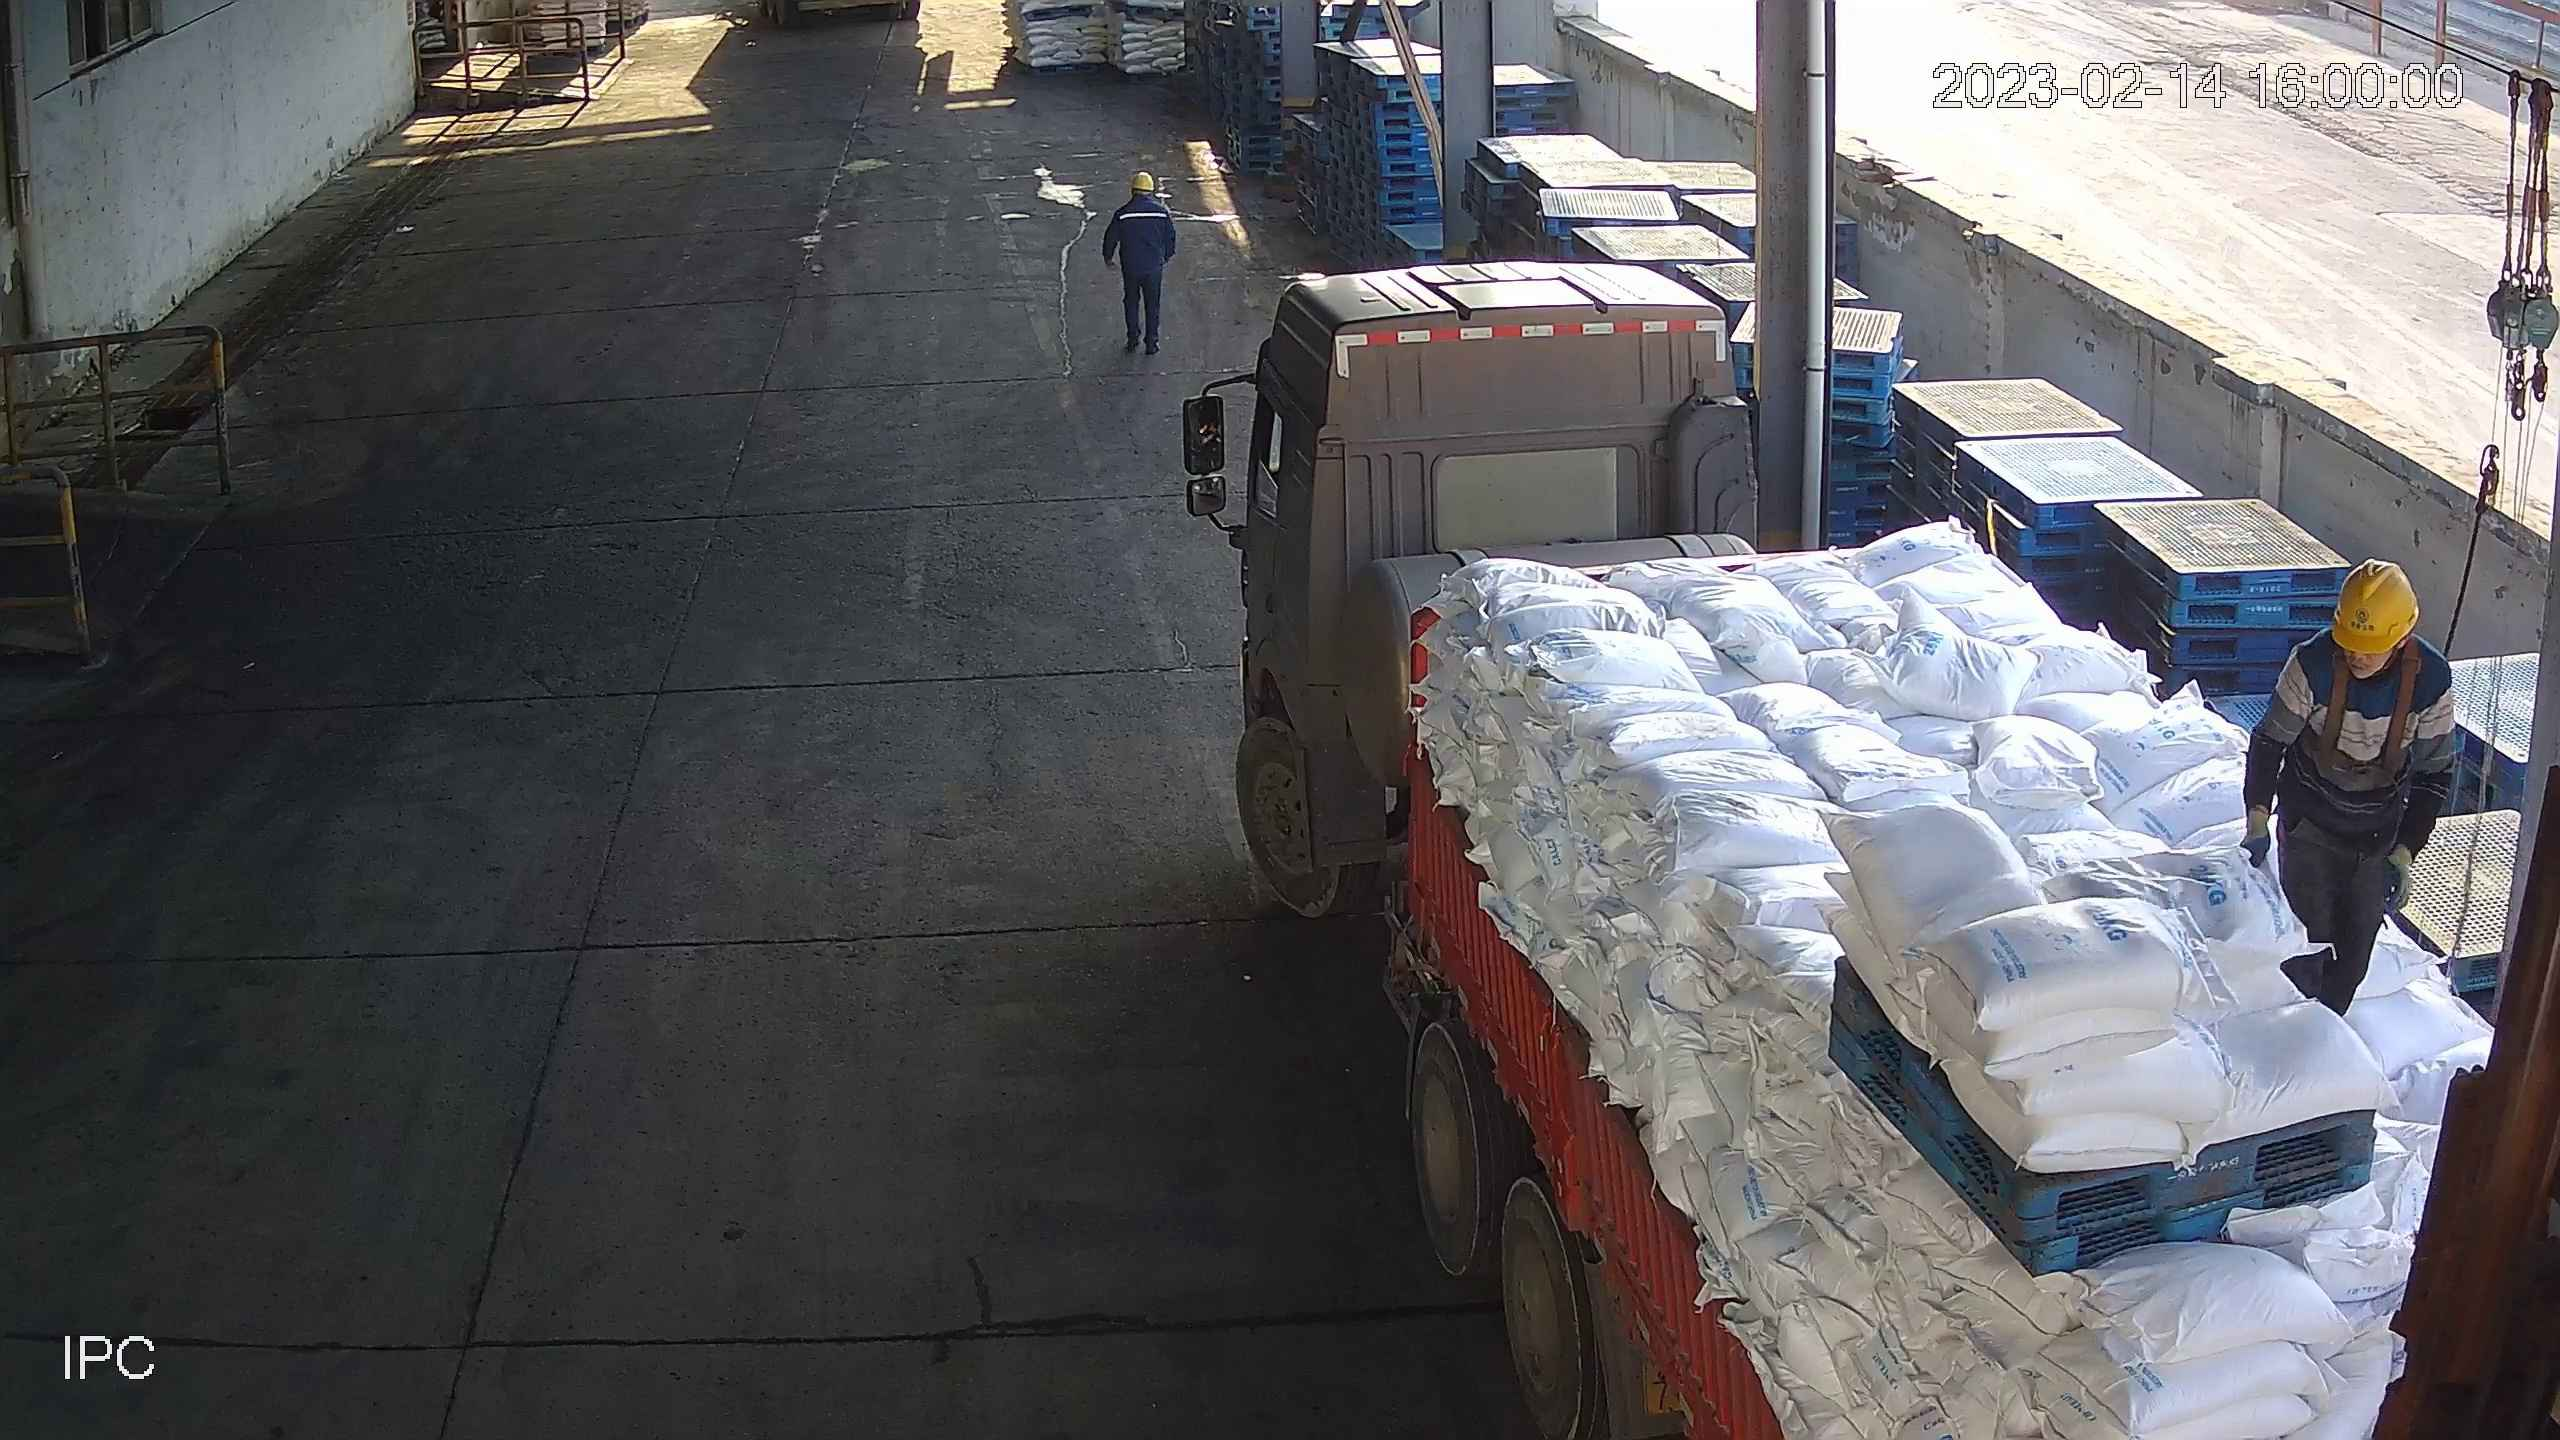belt: (2318, 656, 2420, 791)
head: (2258, 554, 2455, 736), (1103, 168, 1176, 249)
helmet: (2332, 559, 2419, 653), (1132, 172, 1155, 193)
people: (2241, 555, 2456, 1021), (1101, 170, 1177, 354)
truck: (1226, 254, 2560, 1438)
